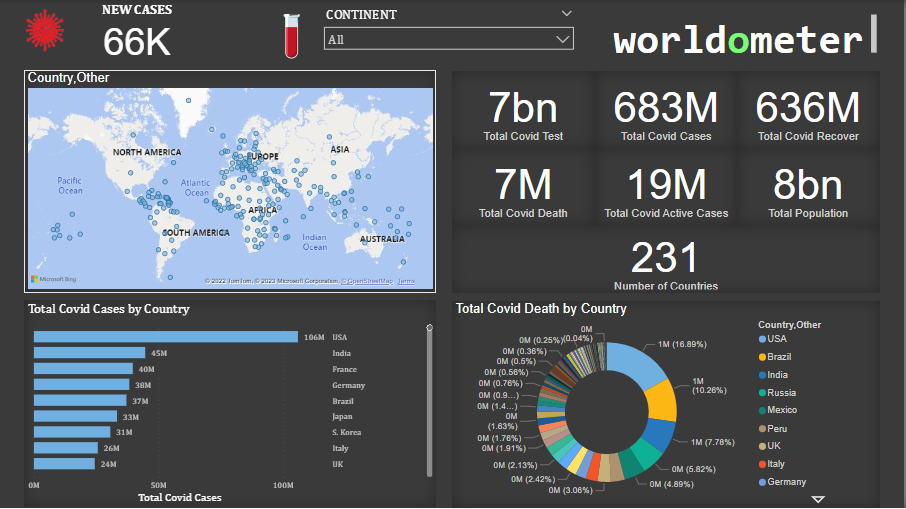

What the dashboard file says about the page in this screenshot:
{"tool":"powerbi","page":{"name":"Page 1","canvas":[1280,720],"ordinal":0},"visuals":[{"type":"card","fields":{"Values":["Table 3.Total Covid Cases"]},"box":[842.9,100.9,202.2,109.8],"z":0,"group":"g1"},{"type":"group","id":"g1","title":"Group 1","box":[640.7,100.9,606.6,219.5],"z":0},{"type":"card","fields":{"Values":["Table 3.Total Covid Recover"]},"box":[1045.1,100.9,202.2,109.8],"z":1000,"group":"g1"},{"type":"map","fields":{"Category":["Table 3.Country,Other"]},"box":[34.1,99.4,584.4,315.9],"z":1000},{"type":"card","fields":{"Values":["Table 3.Total Covid Test"]},"box":[640.7,100.9,202.2,109.8],"z":2000,"group":"g1"},{"type":"card","fields":{"Values":["Table 3.Numbe of Countries"]},"box":[640.7,320.4,606.6,94.9],"z":2000},{"type":"card","fields":{"Values":["Table 3.Total Covid Death"]},"box":[640.7,210.7,202.2,109.8],"z":3000,"group":"g1"},{"type":"clusteredBarChart","title":"Total Covid Cases by Country","fields":{"Category":["Table 3.Country,Other"],"Y":["Table 3.Total Covid Cases"]},"box":[34.1,425.7,584.4,293.7],"z":3000},{"type":"textbox","box":[864.6,15.6,382.7,70.9],"z":4000},{"type":"card","fields":{"Values":["Table 3.Total Covid Active Cases"]},"box":[842.9,210.7,202.2,109.8],"z":4000,"group":"g1"},{"type":"card","fields":{"Values":["Table 3.Total Population"]},"box":[1045.1,210.7,202.2,109.8],"z":5000,"group":"g1"},{"type":"donutChart","title":"Total Covid Death by Country","fields":{"Y":["Table 3.Total Covid Death"],"Category":["Table 3.Country,Other"]},"box":[641,426,607,294],"z":5000},{"type":"image","box":[378.2,1.4,70.5,99.2],"z":6000},{"type":"image","box":[15.8,1.4,97.8,84.9],"z":7000},{"type":"card","title":"NEW CASES","fields":{"Values":["Sum(Table 3.NewCases)"]},"box":[113.6,1.4,161.1,84.9],"z":8000},{"type":"slicer","fields":{"Values":["Table 3.Continent"]},"box":[448.7,4.3,373.9,84.9],"z":8001}]}

Visuals, with their boxes in screenshot pixels (x1, y1, x2, y2), scaled from the page's 1280x720 canvas onto the 906x509 screenshot:
card - Table 3.Total Covid Cases: rect(597, 71, 740, 149)
"Group 1" group: rect(453, 71, 883, 227)
card - Table 3.Total Covid Recover: rect(740, 71, 883, 149)
map - Table 3.Country,Other: rect(24, 70, 438, 294)
card - Table 3.Total Covid Test: rect(453, 71, 597, 149)
card - Table 3.Numbe of Countries: rect(453, 227, 883, 294)
card - Table 3.Total Covid Death: rect(453, 149, 597, 227)
"Total Covid Cases by Country" clusteredBarChart: rect(24, 301, 438, 508)
textbox: rect(612, 11, 883, 61)
card - Table 3.Total Covid Active Cases: rect(597, 149, 740, 227)
card - Table 3.Total Population: rect(740, 149, 883, 227)
"Total Covid Death by Country" donutChart: rect(454, 301, 883, 508)
image: rect(268, 1, 318, 71)
image: rect(11, 1, 80, 61)
"NEW CASES" card: rect(80, 1, 194, 61)
slicer - Table 3.Continent: rect(318, 3, 582, 63)
